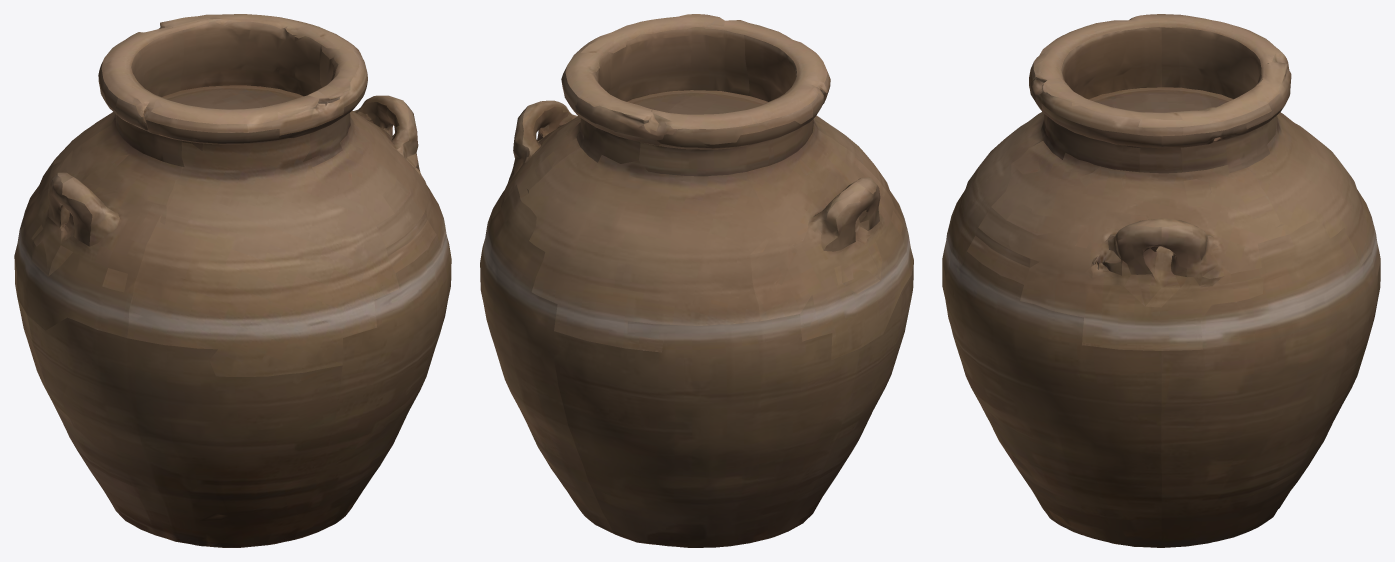
File: clay_jar.glb
The picture shows the model from 3 angles, left to right: view 1: azimuth 30°, elevation 25°; view 2: azimuth 150°, elevation 25°; view 3: azimuth 270°, elevation 25°; orthographic projection.
Parts seen in each view (by area): view 1: geometry_0; view 2: geometry_0; view 3: geometry_0.
Part boxes in pixels (x1,y1,x2,y2): geometry_0: [14, 14, 451, 547]; geometry_0: [480, 14, 913, 547]; geometry_0: [942, 14, 1380, 547].
Bounding box in the file's own units: 0.8672 × 0.95 × 0.8739.
Materials: 1 (1 with a texture image).
